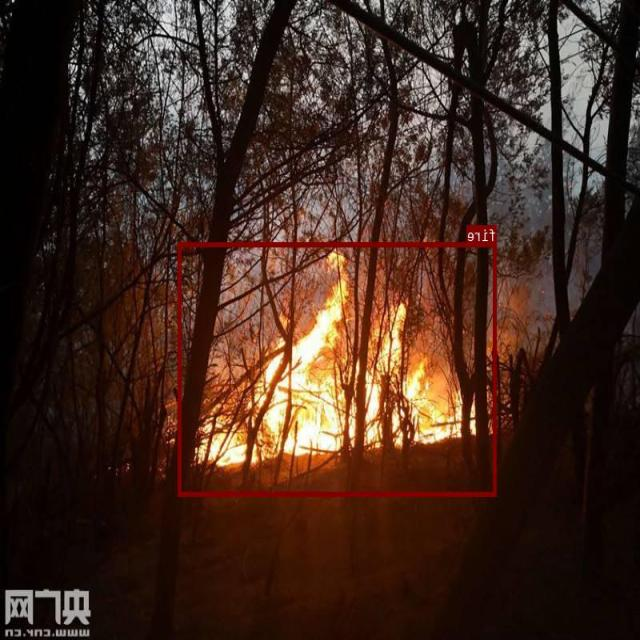fire: (179, 242, 497, 495)
